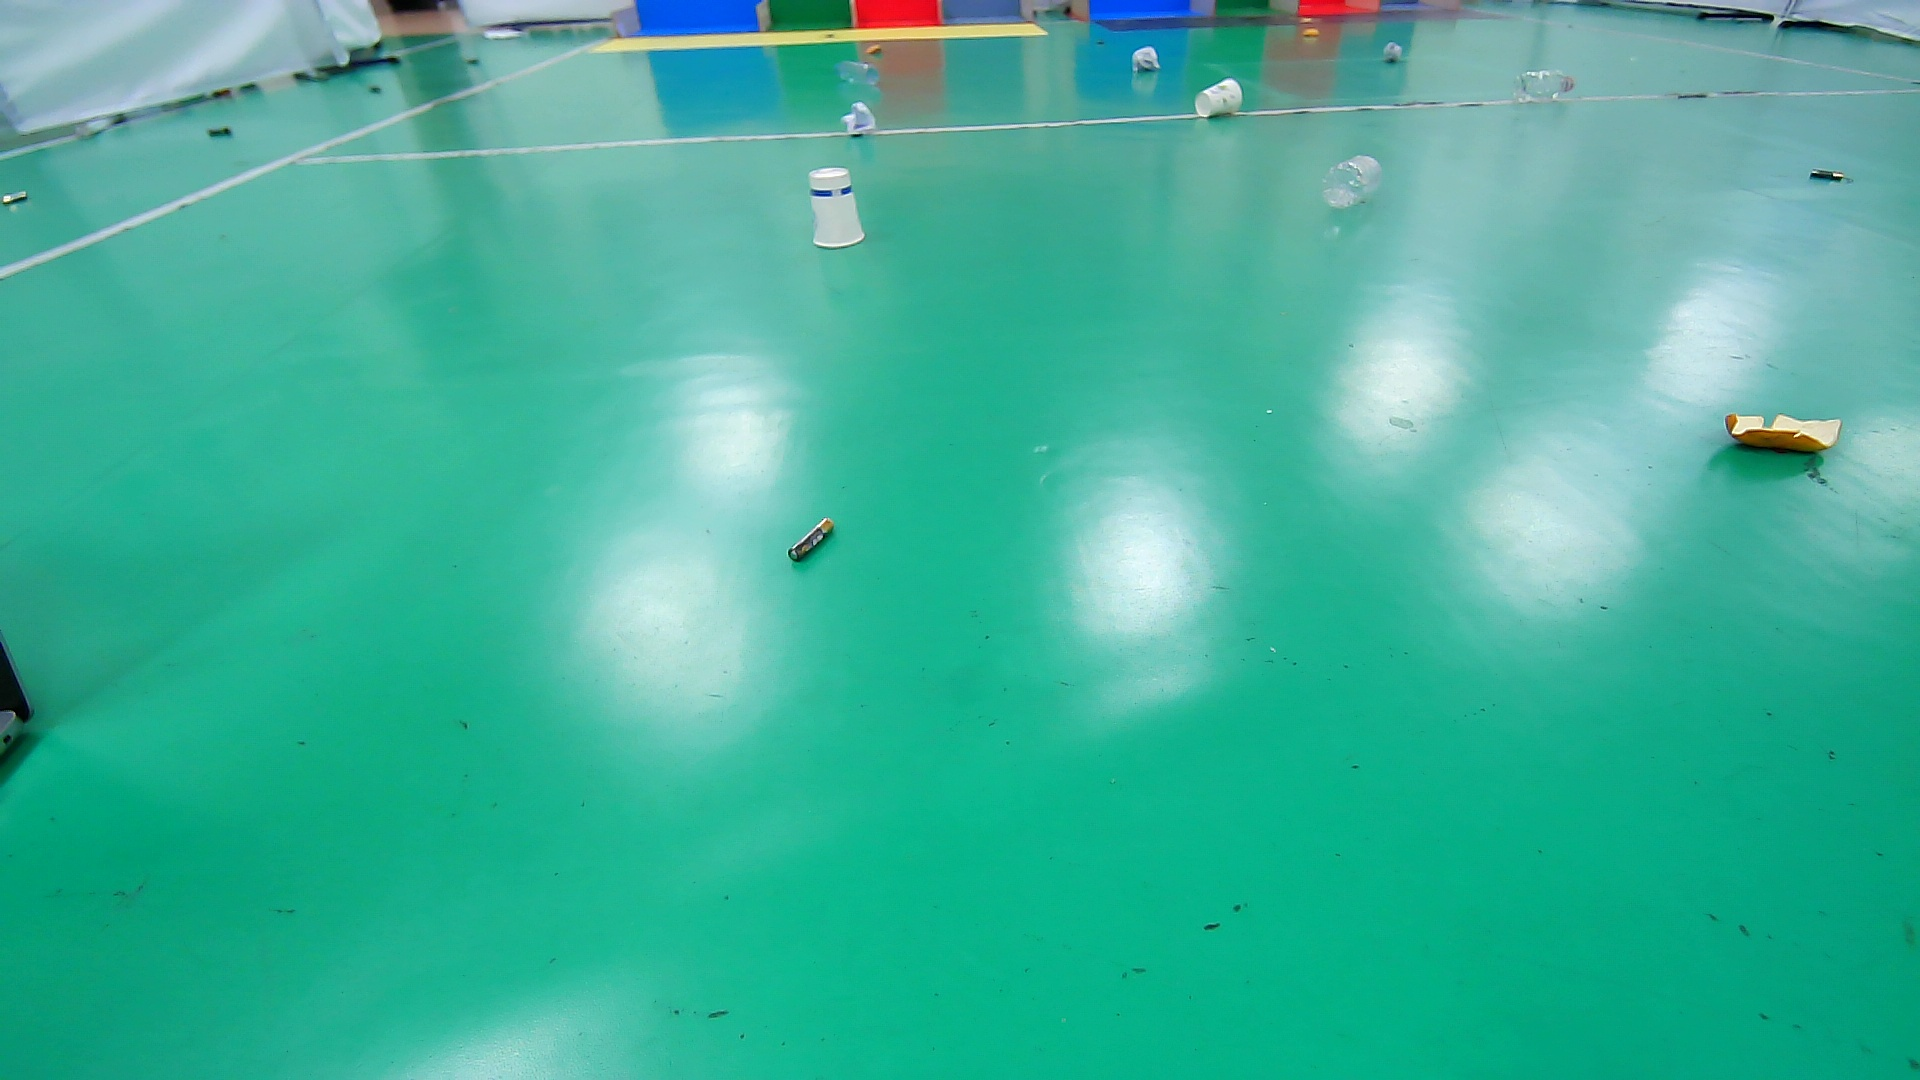battery: (771, 505, 853, 576), (1800, 161, 1854, 190), (198, 119, 243, 146), (1, 182, 38, 214), (357, 74, 394, 103), (456, 47, 493, 73), (1091, 33, 1112, 51)
bottle: (1317, 152, 1389, 214), (1509, 69, 1577, 105), (829, 58, 880, 88)
orangepeel: (1717, 397, 1849, 467), (1295, 22, 1327, 42), (858, 40, 889, 57)
papercup: (803, 164, 872, 249), (1193, 76, 1245, 119)
spitball: (837, 99, 877, 138), (1127, 45, 1163, 74), (1379, 40, 1404, 66)
